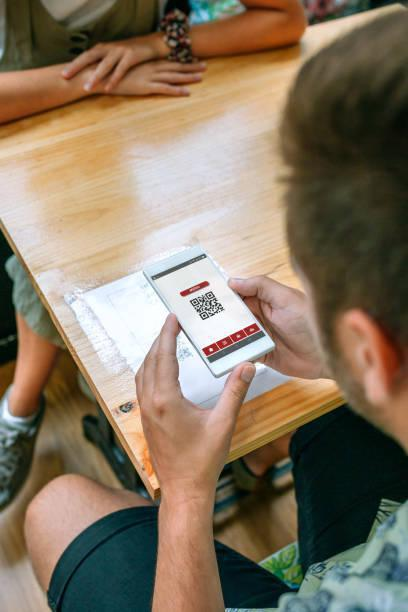qr_code: (189, 291, 225, 321)
